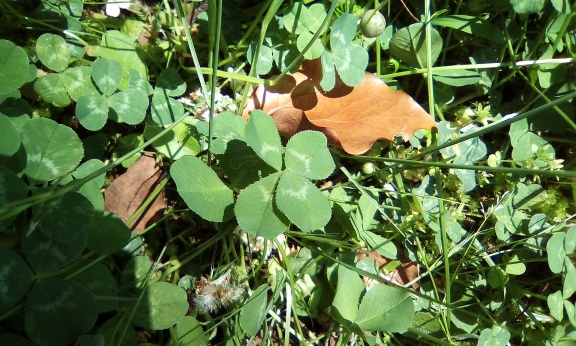4leaf: (233, 109, 336, 238)
